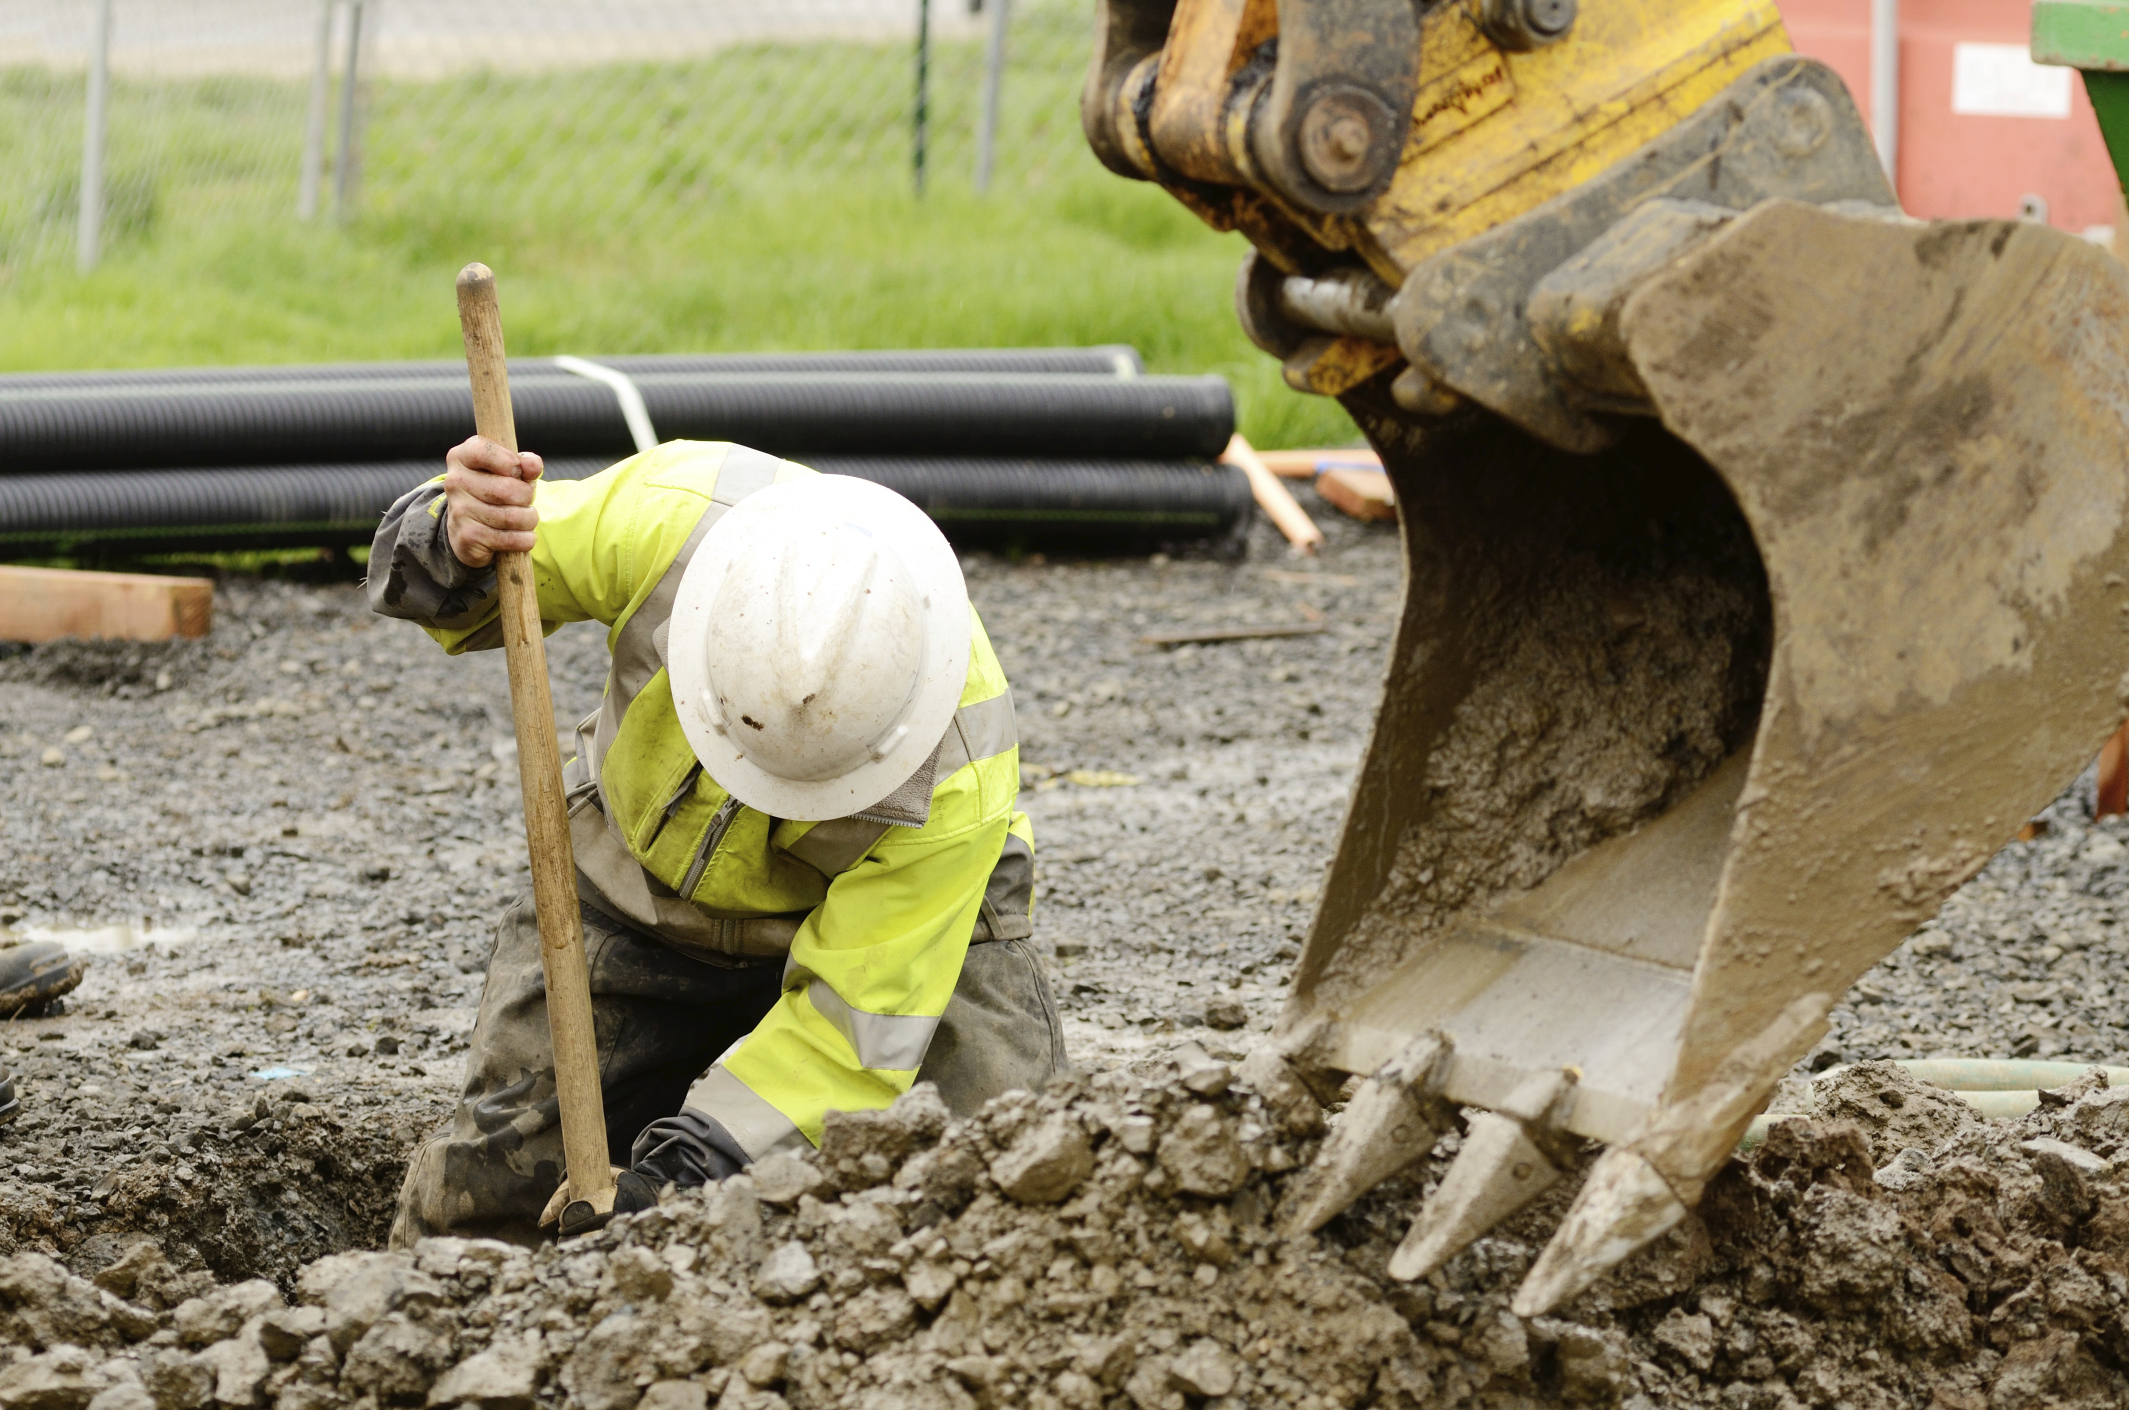SAFE: (562, 426, 1032, 996)
